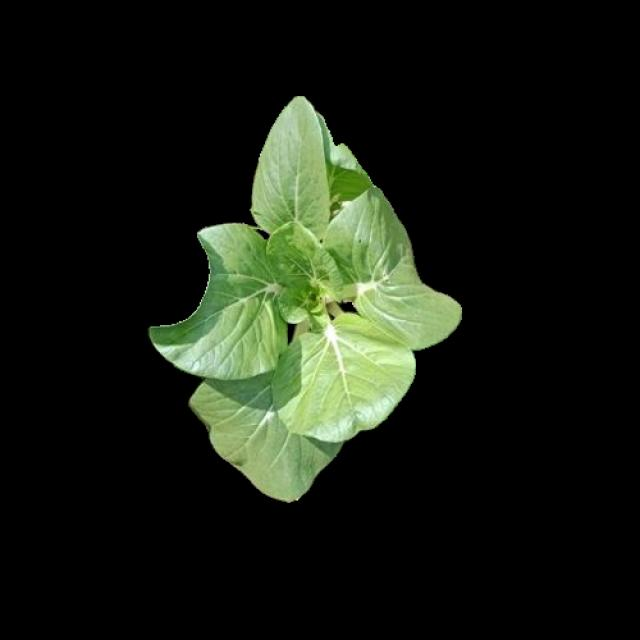mature: (153, 96, 460, 497)
unhealthy: (320, 196, 456, 342)
